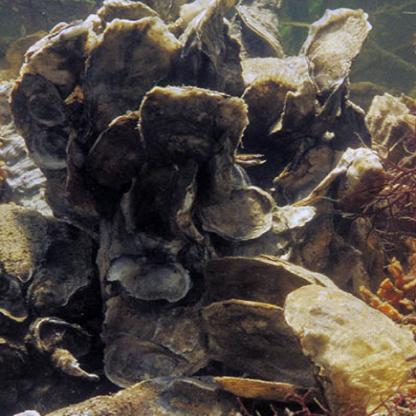Oyster- Indeterminate: (175, 0, 225, 87), (236, 162, 254, 185)
Oyster-Closed: (102, 236, 216, 385), (287, 285, 416, 416), (138, 85, 250, 207), (81, 17, 180, 150), (34, 375, 245, 416), (300, 8, 375, 94), (10, 70, 74, 170), (27, 232, 93, 317), (23, 21, 91, 99), (85, 111, 147, 191), (197, 184, 275, 242), (0, 204, 50, 281), (242, 79, 297, 142), (237, 5, 284, 58)
Oyster-Open: (204, 299, 327, 402), (208, 253, 343, 309), (367, 94, 416, 163), (236, 153, 265, 167)
